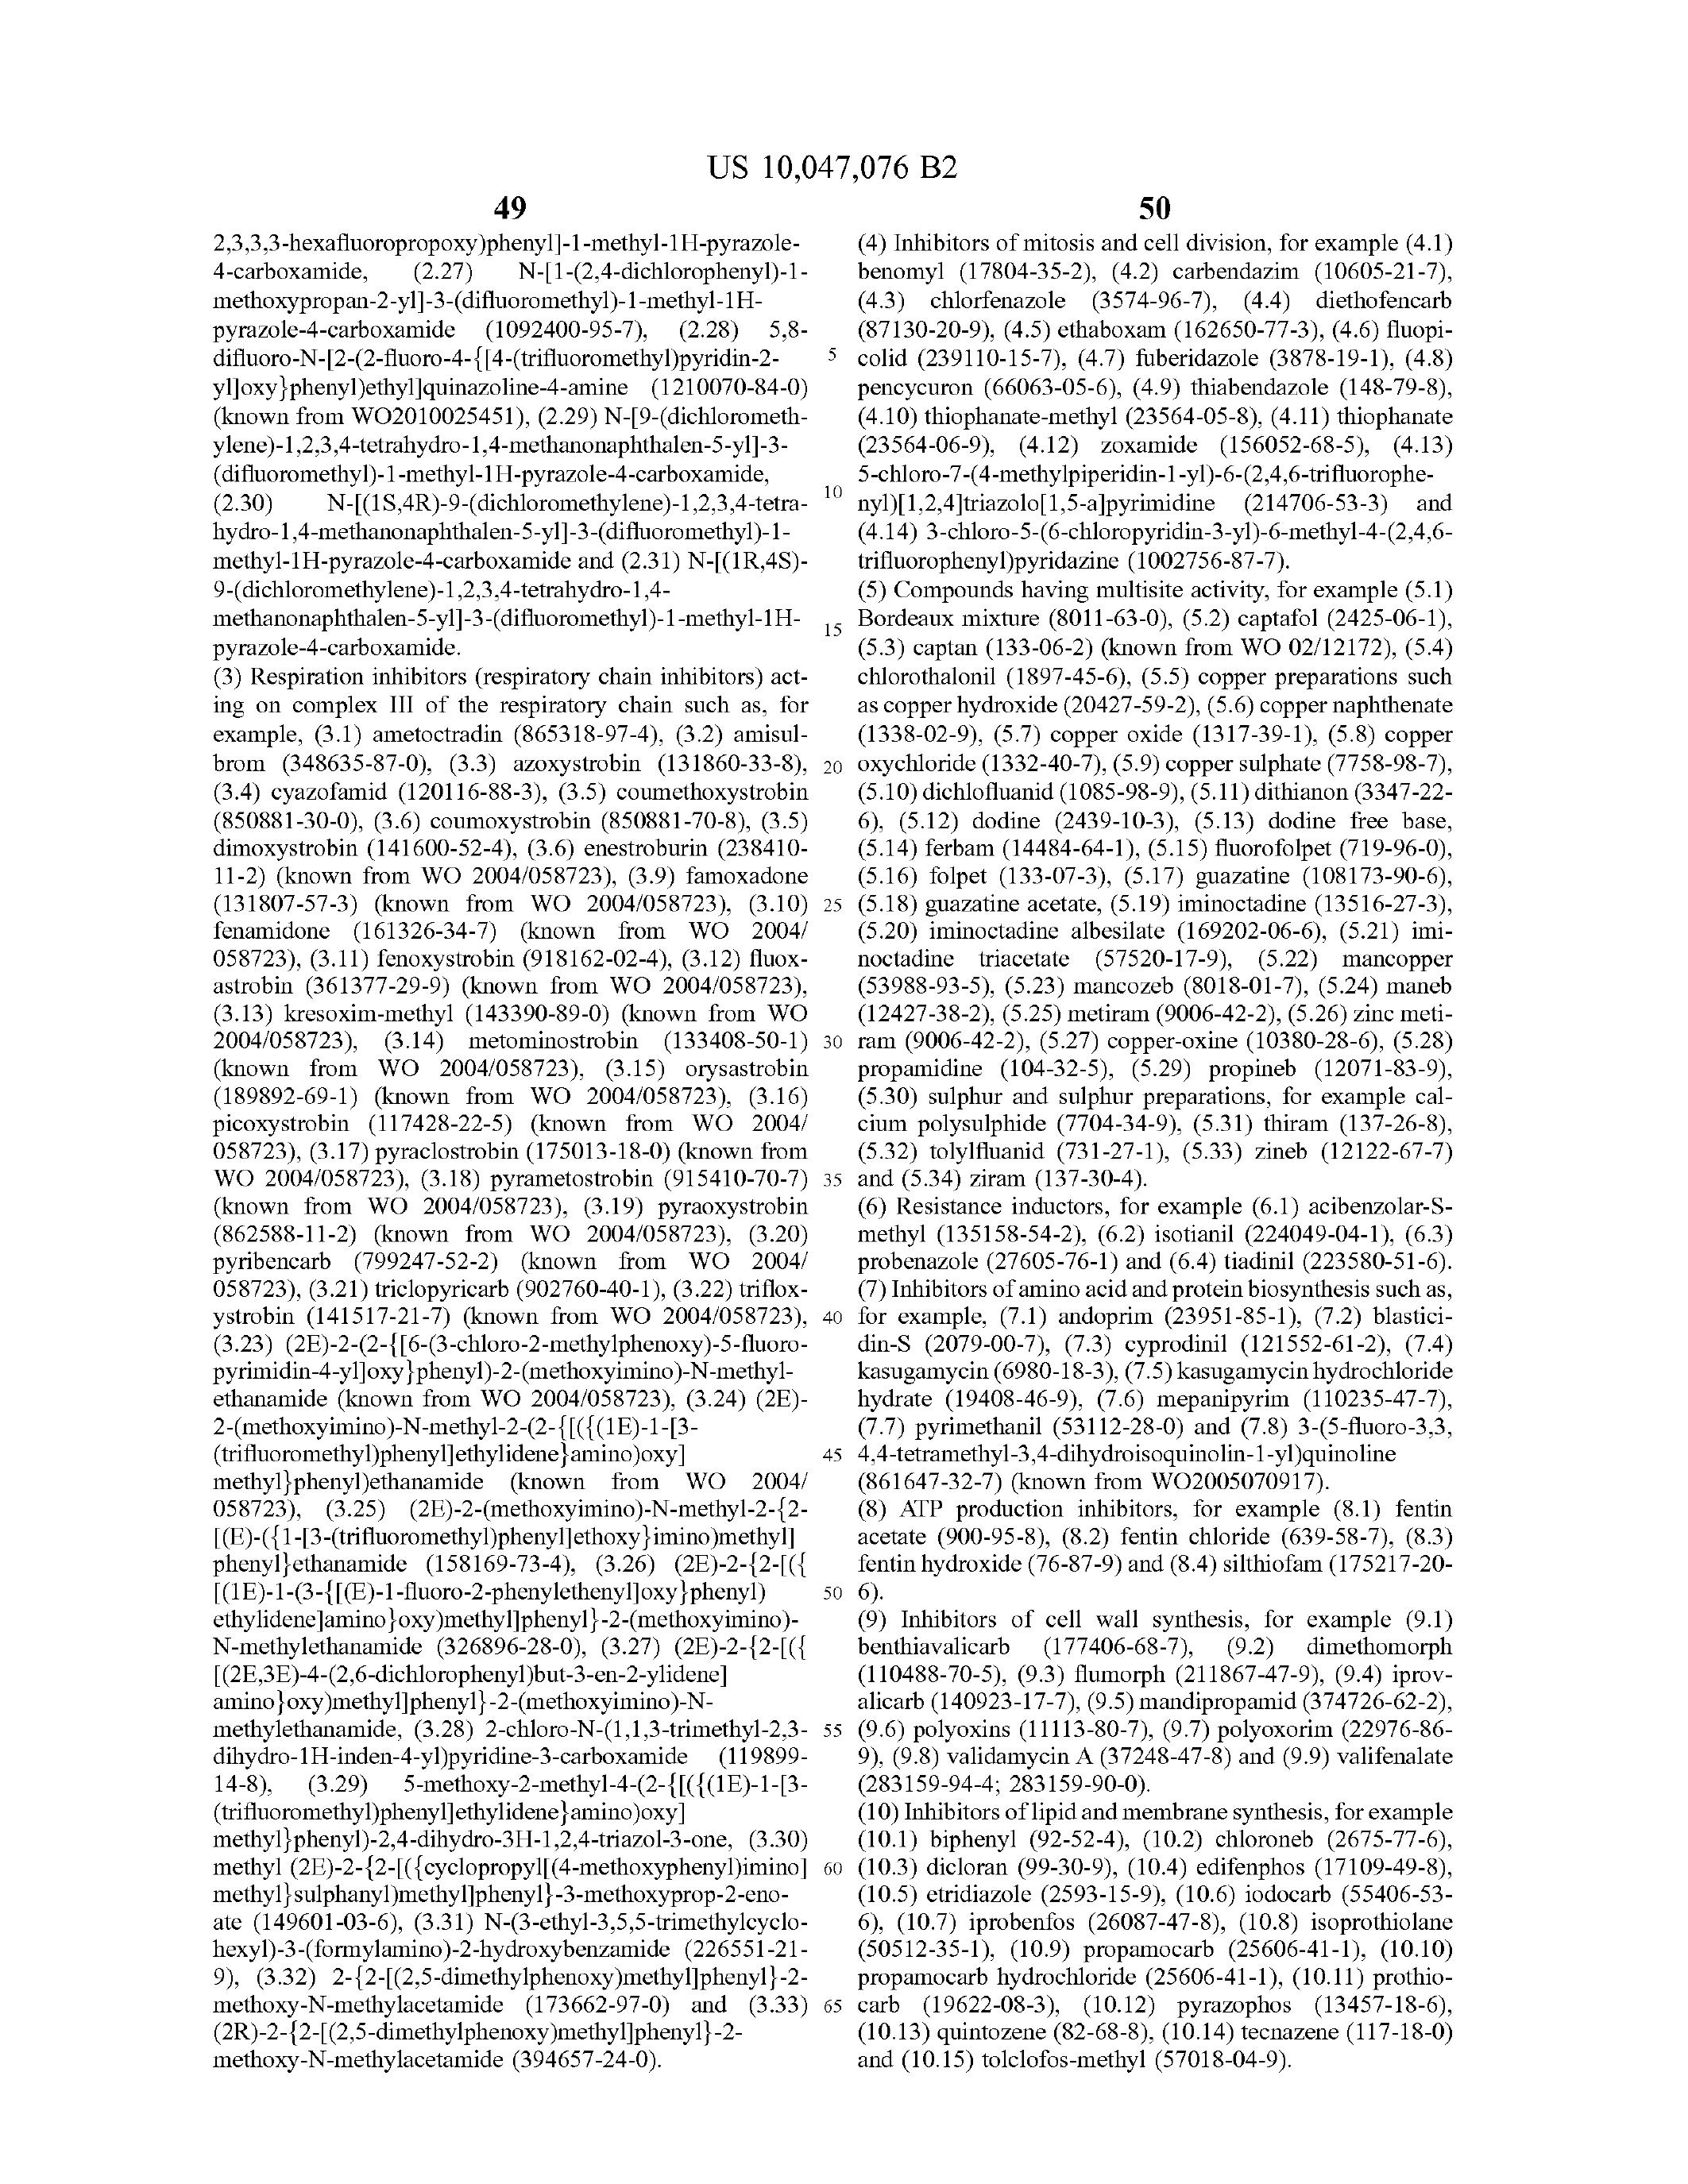substitutes: (161, 216, 801, 651)
